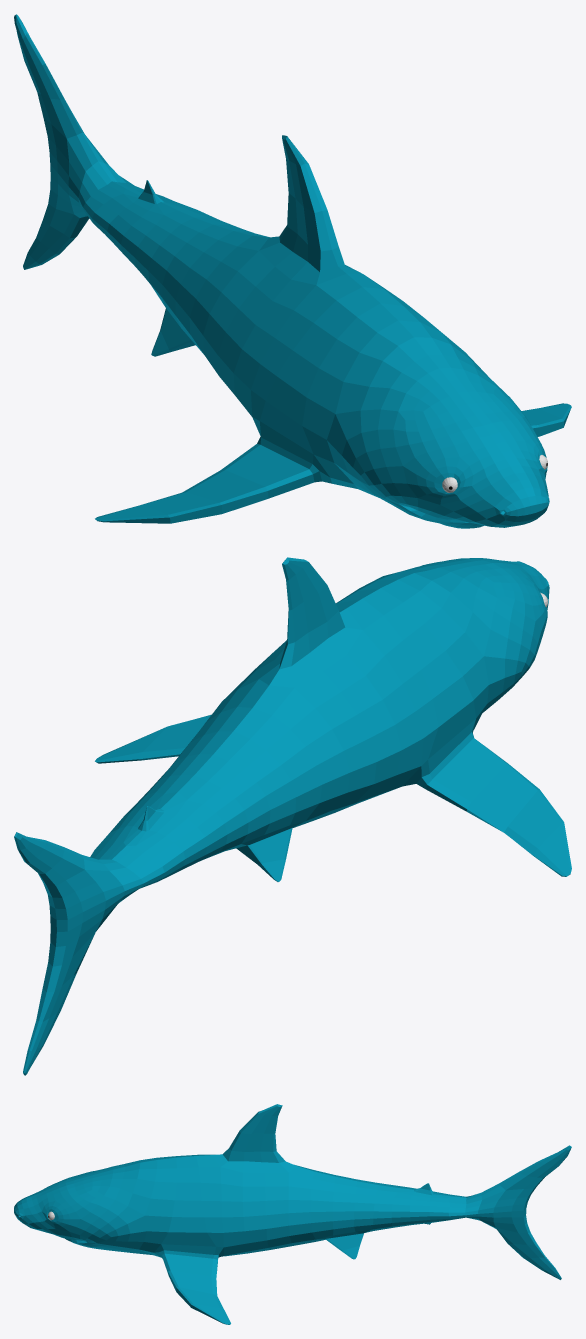
File: sharkDetailed.fbx
The picture shows the model from 3 angles, top to bottom: view 1: azimuth 30°, elevation 25°; view 2: azimuth 150°, elevation 25°; view 3: azimuth 270°, elevation 25°; orthographic projection. The views are drawn at different scales.
Visible parts, largest first — view 1: shark; view 2: shark; view 3: shark.
Boxes of the visible parts, box(x1,y1,x2,y2) form: shark: box(14, 14, 571, 528); shark: box(14, 557, 571, 1075); shark: box(14, 1104, 571, 1324).
Size of the model in its own units: 434 by 286 by 821.
